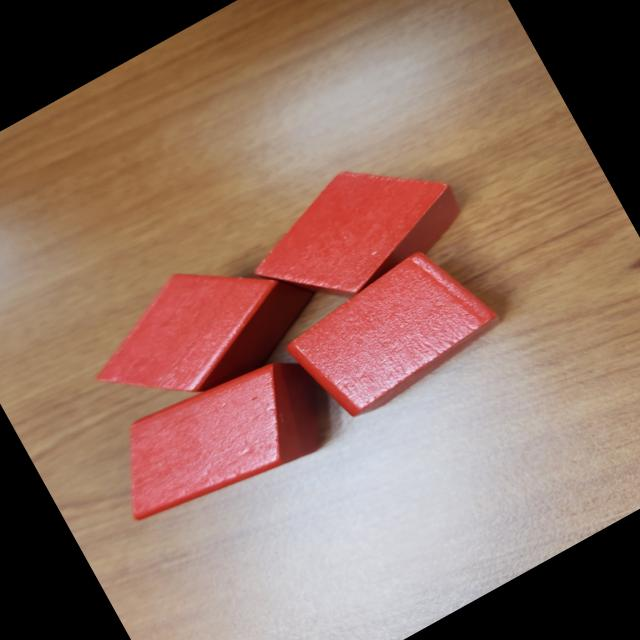red: (71, 216, 338, 439), (93, 336, 343, 545), (229, 125, 475, 334), (274, 230, 511, 435)
